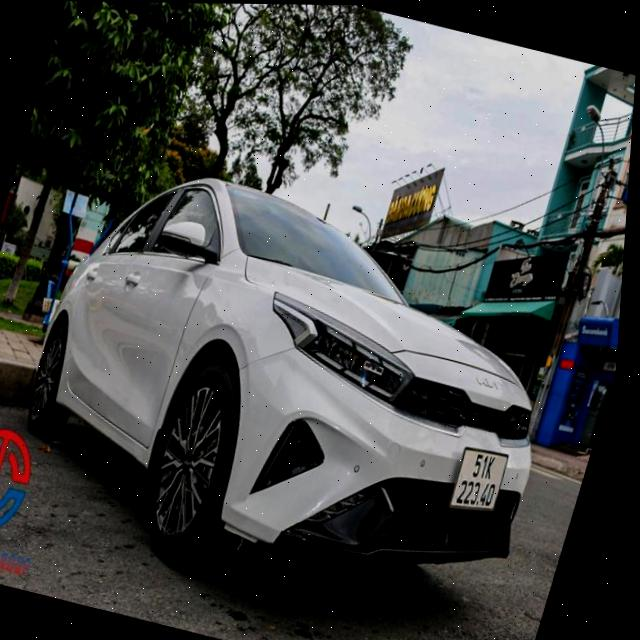car: (0, 144, 608, 640)
plate: (443, 439, 514, 519)
